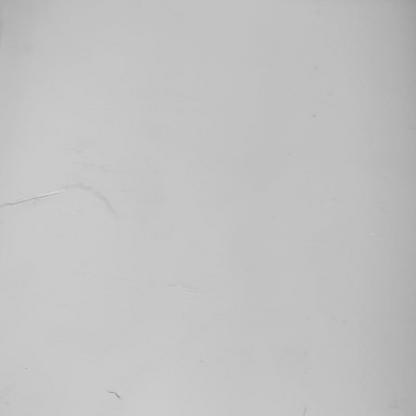sunshang: (1, 192, 65, 211), (108, 390, 120, 401)
